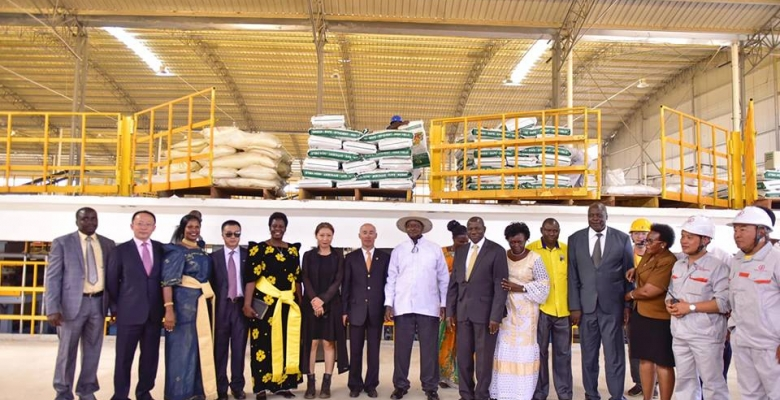epi: (665, 213, 729, 400), (721, 204, 777, 400), (626, 219, 651, 266)
noepi: (565, 202, 634, 400), (45, 208, 115, 400), (105, 211, 168, 400), (241, 211, 303, 400), (387, 216, 445, 400), (446, 215, 503, 400), (161, 215, 216, 400), (489, 226, 543, 400), (341, 225, 391, 400), (302, 220, 347, 400), (635, 224, 679, 400), (530, 217, 571, 400), (211, 218, 249, 400), (434, 214, 470, 387)
